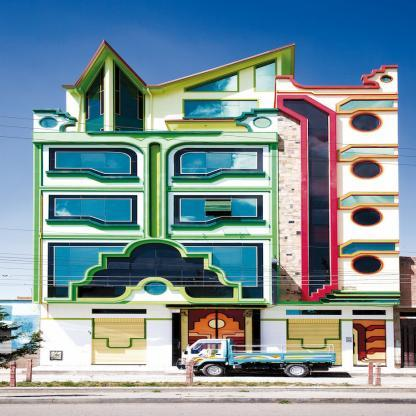Building Outline: (31, 38, 401, 367)
Deco: (50, 351, 62, 361)
Door: (188, 309, 245, 366), (286, 319, 342, 367), (91, 318, 147, 365), (352, 319, 387, 367)
Facade: (31, 39, 402, 366)
Roof: (61, 39, 295, 88)
Sill: (182, 108, 281, 120), (171, 171, 266, 182), (45, 171, 139, 182), (170, 219, 266, 229), (45, 219, 140, 229)
Window: (284, 100, 330, 296), (78, 243, 233, 298), (185, 246, 257, 286), (54, 246, 125, 286), (113, 60, 143, 131), (55, 151, 131, 174), (55, 198, 131, 221), (180, 199, 257, 221), (181, 152, 257, 174), (85, 63, 104, 132), (184, 100, 258, 117), (185, 72, 238, 91), (256, 60, 276, 91), (340, 100, 394, 111), (341, 148, 394, 159), (342, 243, 395, 254), (341, 196, 394, 206), (285, 310, 342, 315), (92, 309, 147, 314), (353, 309, 386, 315)
